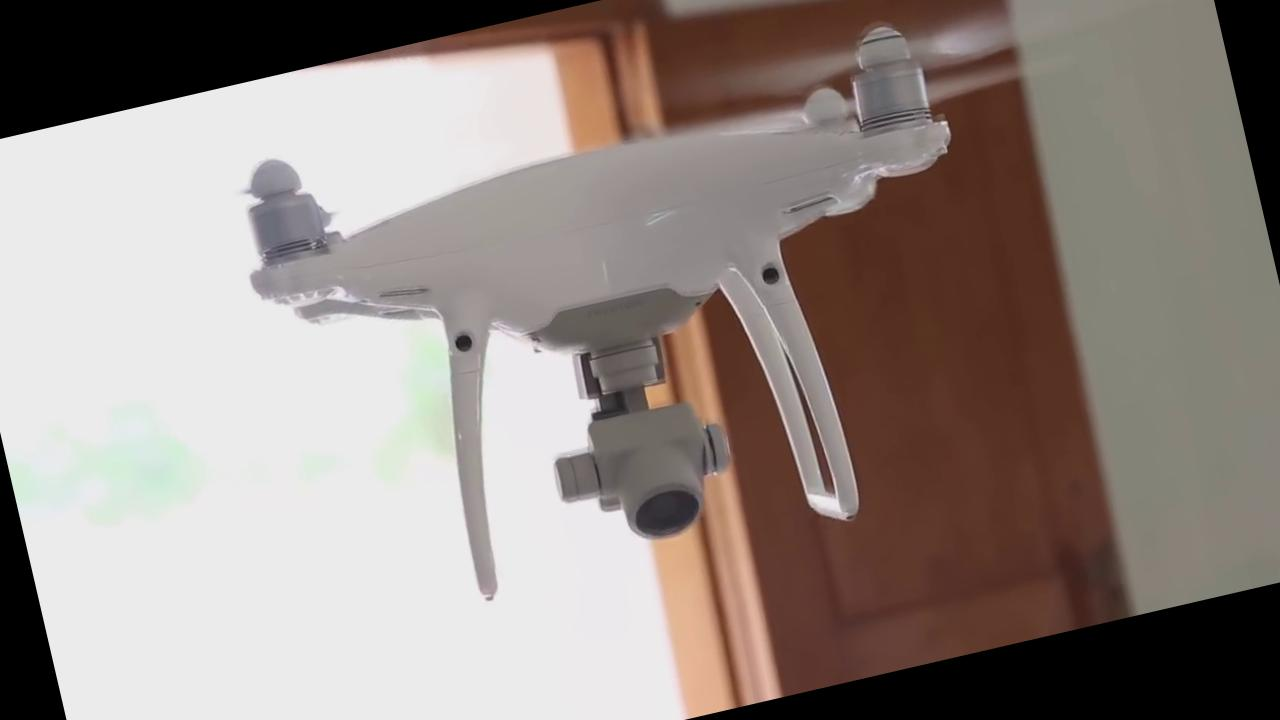drone: (161, 0, 1031, 503)
